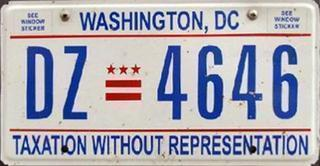placa de veiculo: (2, 0, 316, 164)
